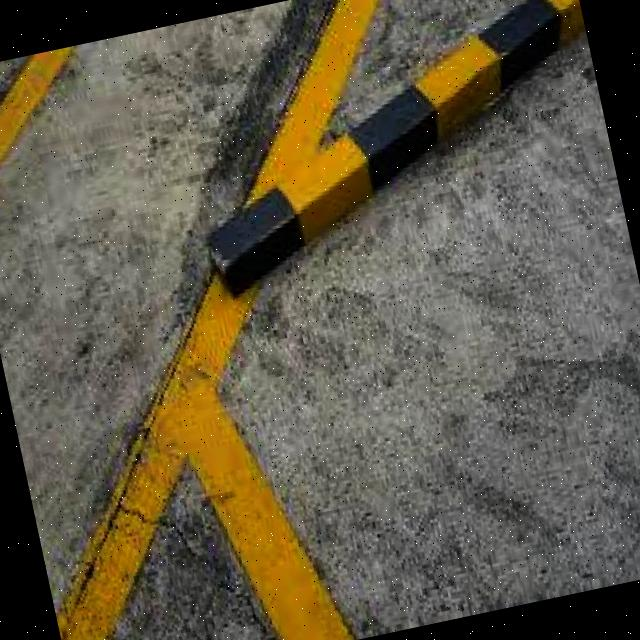curb: (201, 1, 585, 299)
